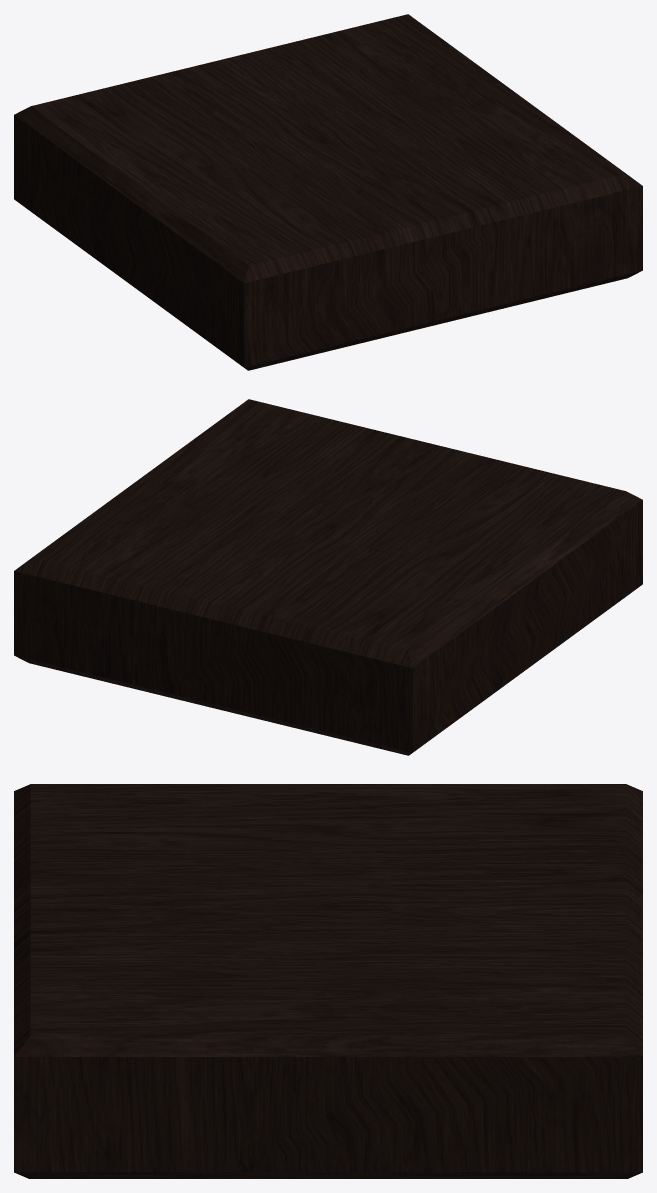
File: Tile.fbx
3 views of the same model, one above another, from view 1: azimuth 30°, elevation 25°; view 2: azimuth 150°, elevation 25°; view 3: azimuth 270°, elevation 25° (orthographic). The views are drawn at different scales.
Parts seen in each view (by area): view 1: Tile; view 2: Tile; view 3: Tile.
Part boxes in pixels (x1,y1,x2,y2): Tile: [14, 14, 642, 370]; Tile: [14, 399, 642, 755]; Tile: [14, 784, 642, 1178].
Size of the model in its own units: 4 by 1 by 4.
